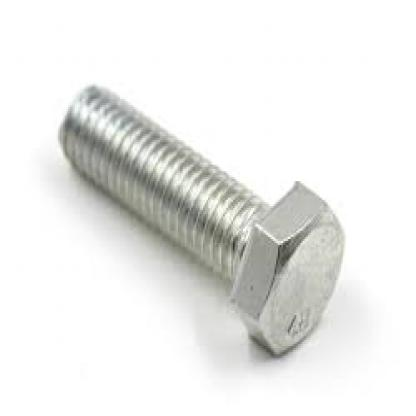METAL: (57, 82, 342, 354)
